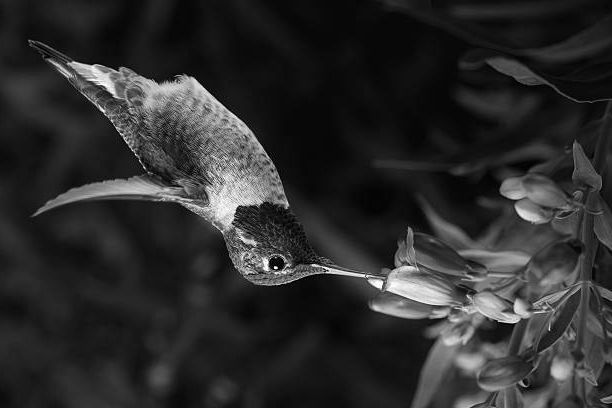Bird: (21, 32, 389, 285)
